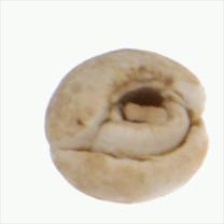L3: (82, 75, 196, 166)
L4: (44, 49, 208, 206)
